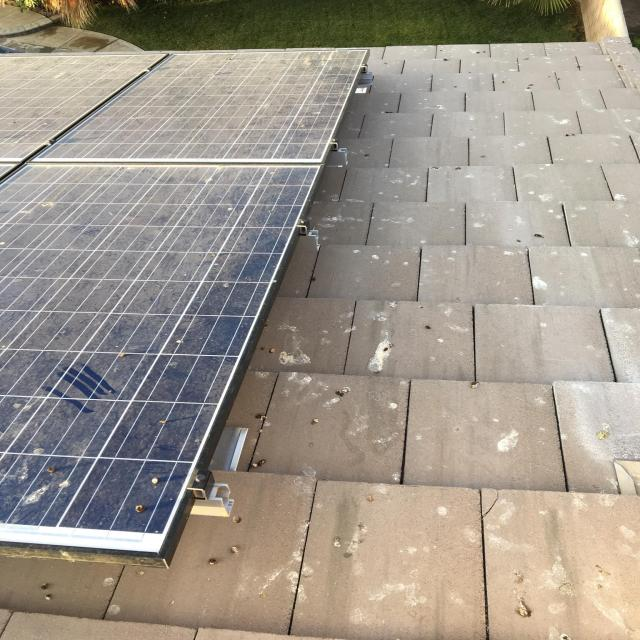dust-solar-panel: (0, 47, 367, 547)
